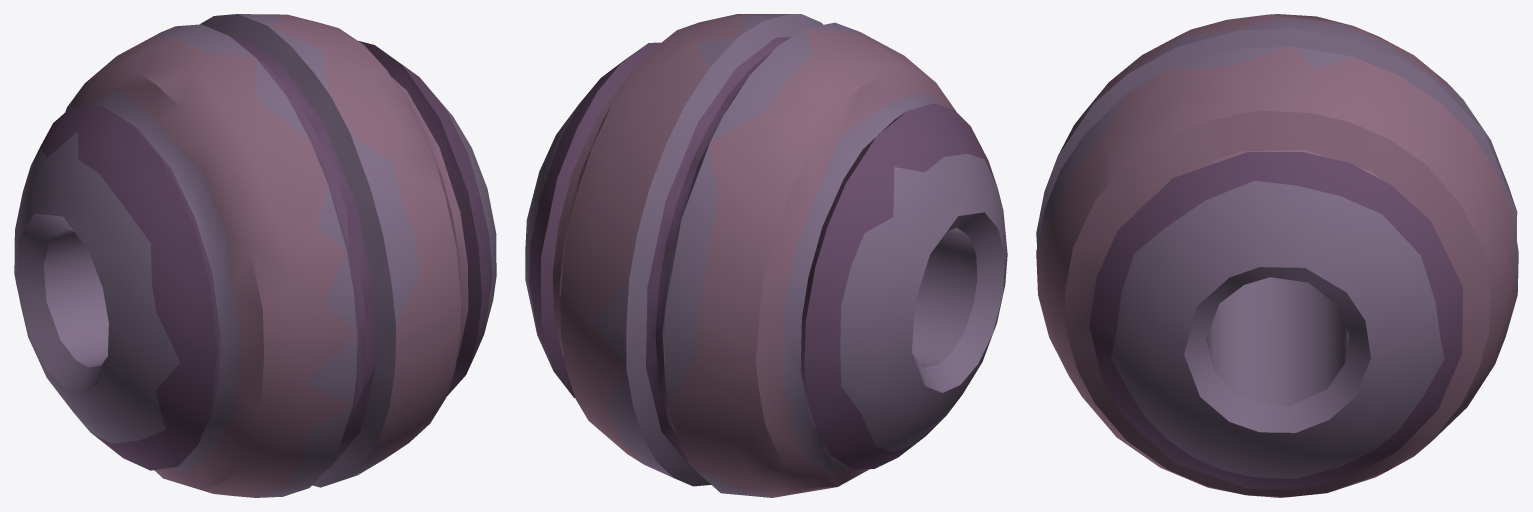
Rendered from quaternius-ultimate-space-pack-planet-8-transformed.glb.
3 renders of one model, left to right at view 1: azimuth 30°, elevation 25°; view 2: azimuth 150°, elevation 25°; view 3: azimuth 270°, elevation 25°, orthographic.
Visible parts, largest first — view 1: Planet_8; view 2: Planet_8; view 3: Planet_8.
Boxes of the visible parts, bbox=[...] form: Planet_8: bbox=[14, 14, 496, 497]; Planet_8: bbox=[525, 14, 1007, 497]; Planet_8: bbox=[1036, 14, 1518, 497].
Size of the model in its own units: 3.45 by 3.75 by 3.75.
1 material, 1 textured.
